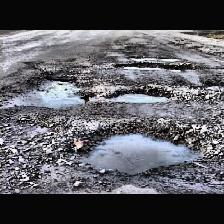pothole: (64, 119, 212, 175), (26, 78, 92, 108), (104, 88, 170, 102), (114, 62, 192, 72), (128, 56, 183, 60)
